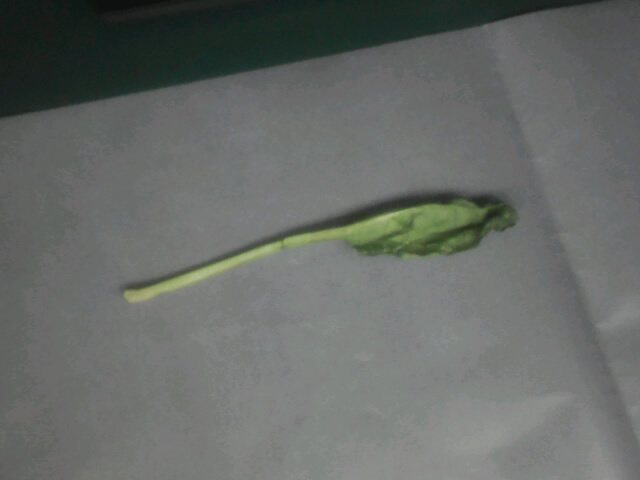yellow: (221, 167, 522, 282)
